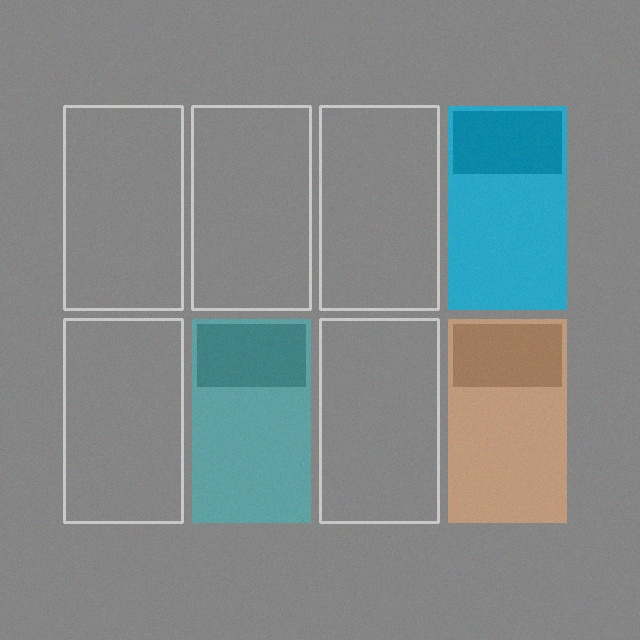space-empty: (64, 106, 182, 309), (192, 106, 310, 309), (320, 106, 438, 309), (64, 319, 182, 522), (320, 319, 438, 522)
space-occupied: (448, 106, 566, 309), (192, 319, 310, 522), (448, 319, 566, 522)
